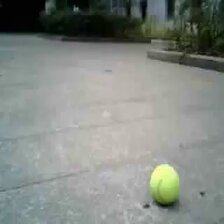tennis: (151, 163, 179, 202)
